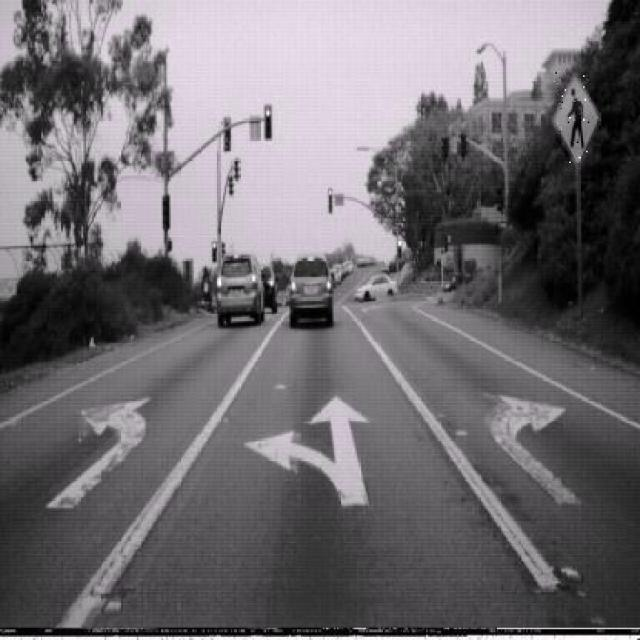pedestrianCrossing: (552, 71, 600, 166)
